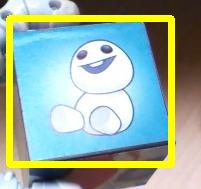Blue1: (9, 18, 171, 164)
